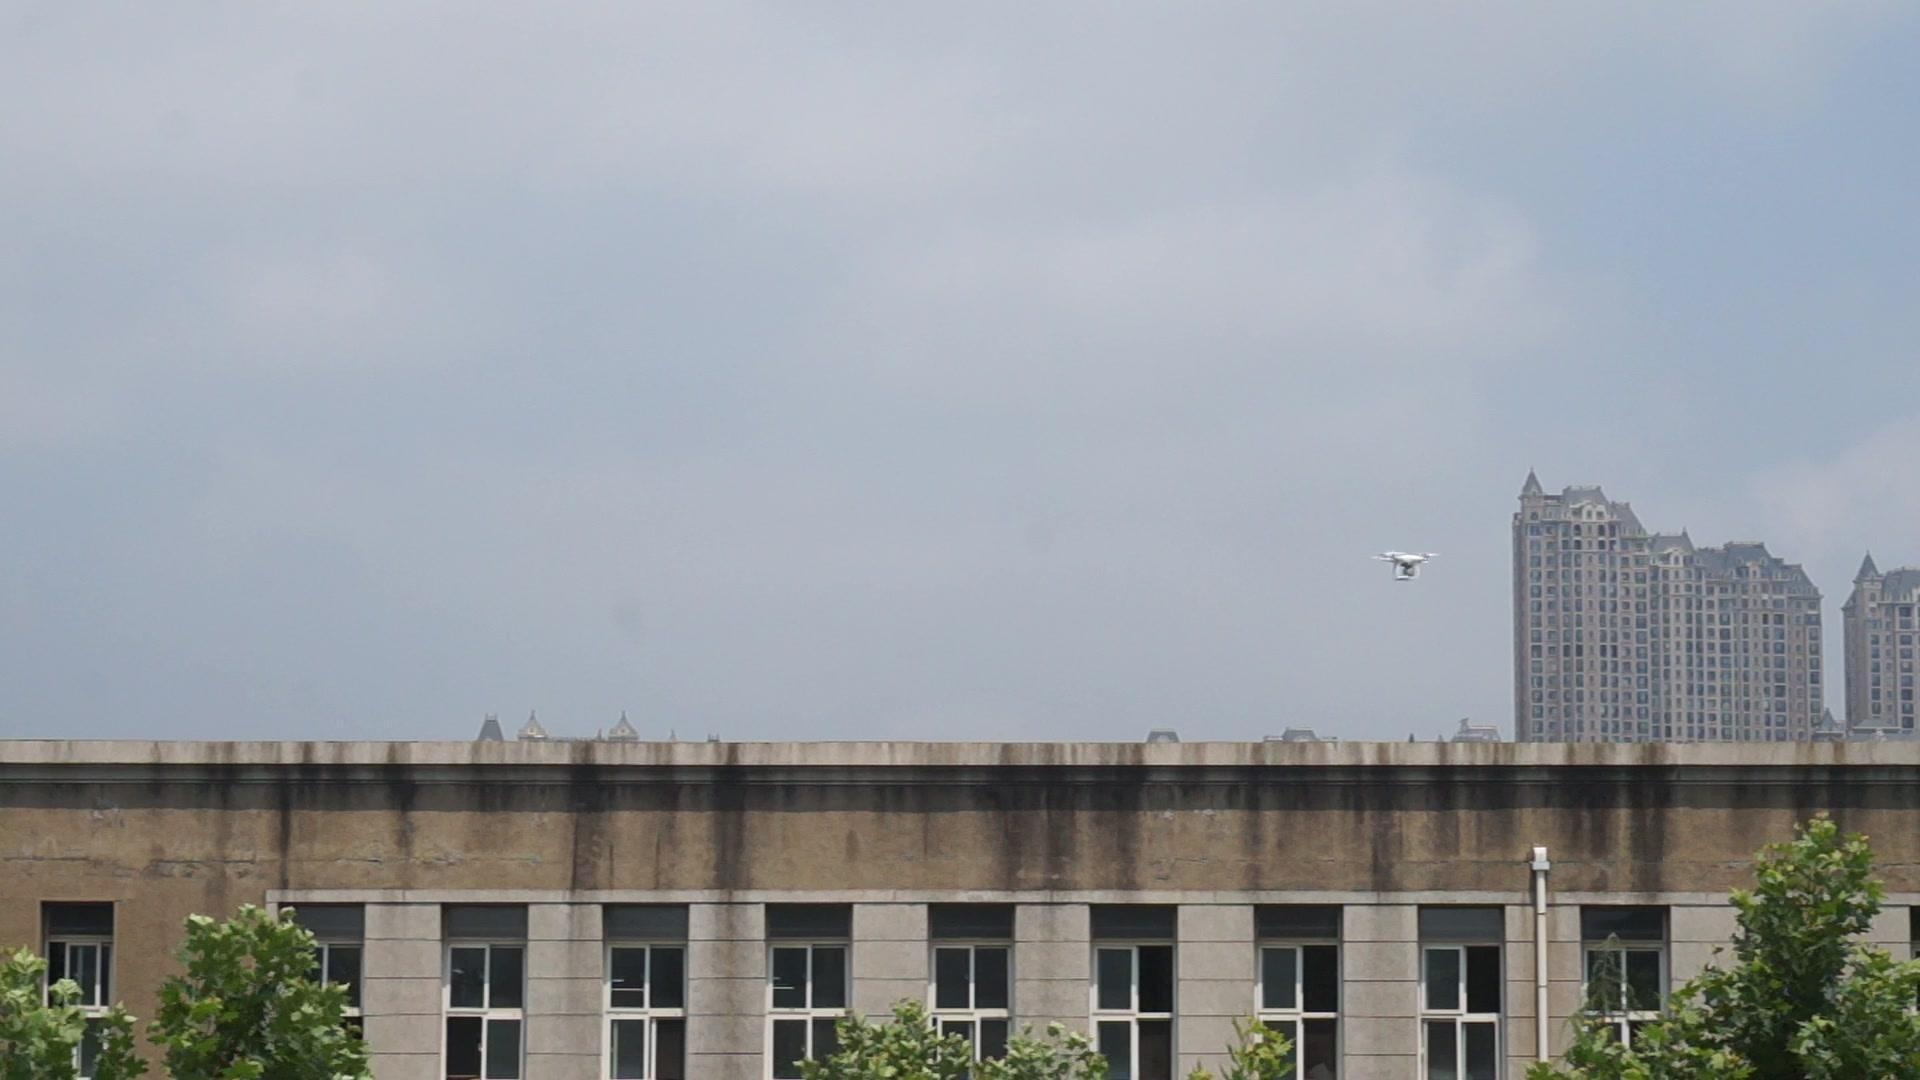UAV: (1371, 551, 1443, 583)
